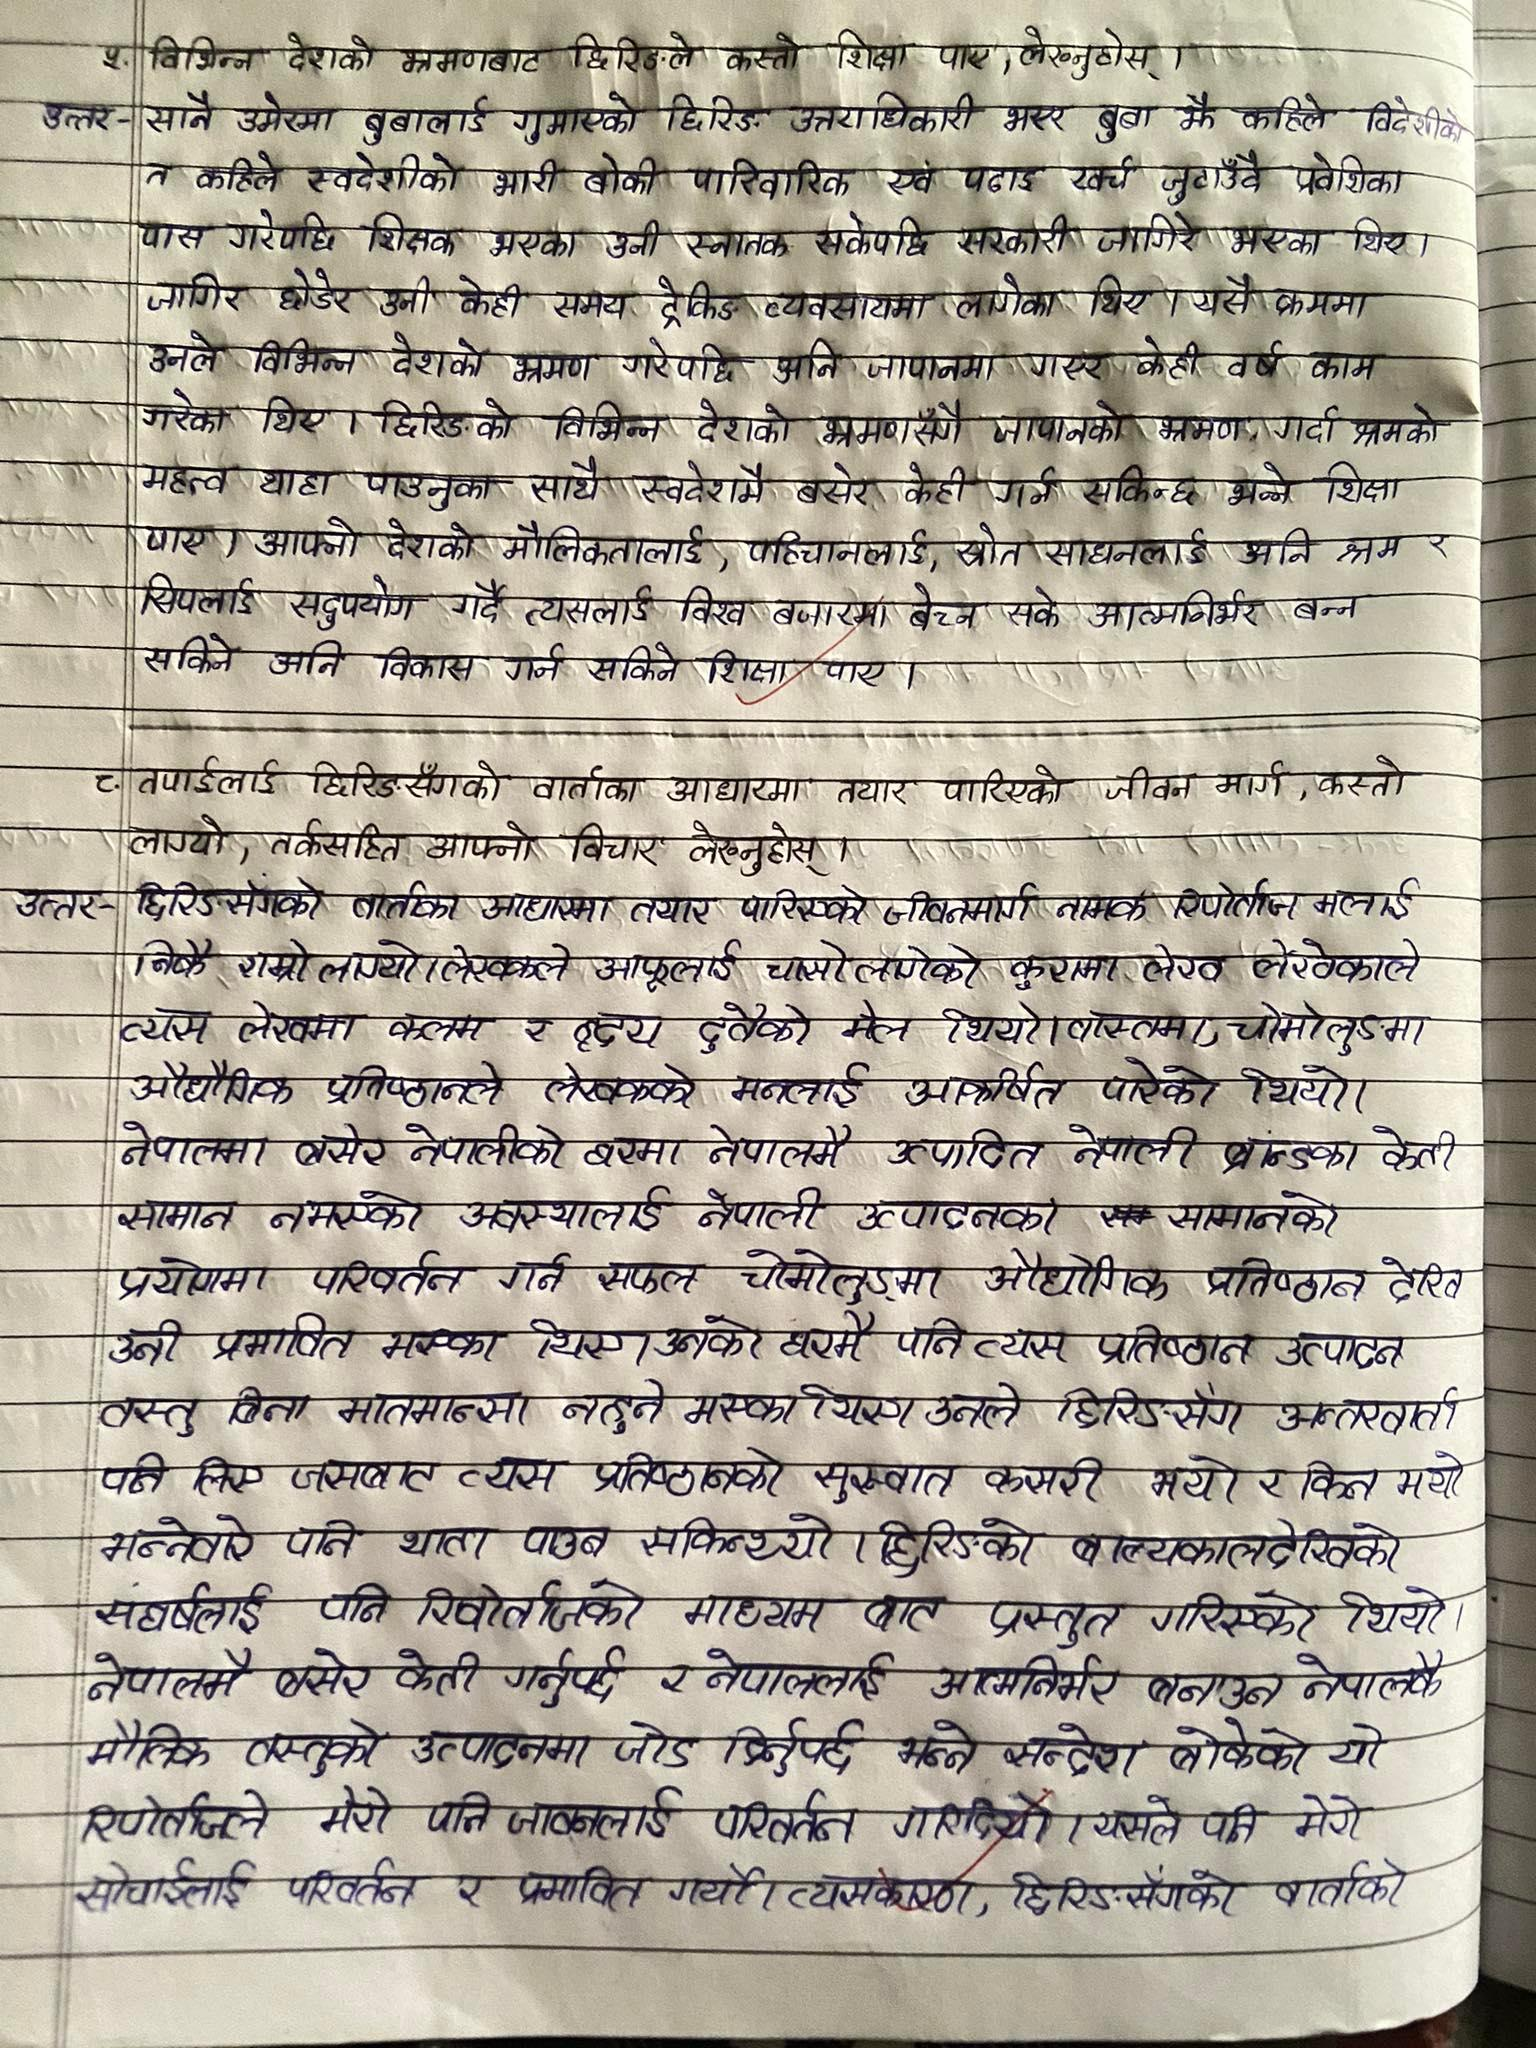text: (1063, 1517, 1418, 1577), (411, 1579, 650, 1637), (724, 1243, 957, 1301), (69, 1851, 271, 1917), (783, 1863, 979, 1929), (503, 1784, 694, 1848), (505, 516, 716, 574), (71, 1784, 274, 1843), (997, 1867, 1246, 1916), (979, 1245, 1173, 1306), (457, 1184, 681, 1235), (870, 1509, 1036, 1579), (311, 745, 510, 803), (702, 1646, 900, 1705), (1049, 1380, 1252, 1437), (1142, 1587, 1321, 1650), (94, 1576, 269, 1638), (1226, 998, 1433, 1051), (895, 1788, 1063, 1853), (637, 1508, 834, 1563), (1267, 1385, 1467, 1438), (929, 1656, 1128, 1709), (744, 522, 945, 574), (1012, 19, 1167, 85), (718, 1716, 870, 1782), (127, 877, 332, 926), (587, 1447, 779, 1498), (119, 1058, 292, 1114), (1000, 1717, 1144, 1785), (750, 276, 931, 329), (1084, 582, 1263, 635), (98, 1513, 261, 1571), (689, 152, 866, 205), (1192, 1255, 1375, 1306), (784, 90, 978, 139), (402, 1121, 571, 1176), (239, 1714, 379, 1780), (1158, 1721, 1305, 1784), (1247, 940, 1438, 989), (1089, 1319, 1257, 1374), (587, 939, 745, 997), (411, 1725, 594, 1775), (534, 1059, 705, 1113), (815, 397, 971, 455), (86, 1648, 261, 1700), (281, 569, 424, 632), (702, 1118, 862, 1174), (332, 1390, 539, 1434), (210, 1308, 360, 1367), (691, 814, 833, 877), (502, 1642, 628, 1713), (307, 145, 465, 202), (319, 1059, 510, 1106), (712, 1788, 865, 1846), (371, 390, 521, 448), (894, 1063, 1068, 1113), (971, 1592, 1117, 1651), (986, 398, 1134, 456), (303, 1250, 478, 1298), (566, 23, 703, 84), (108, 1251, 276, 1301), (511, 1859, 655, 1917), (115, 1118, 271, 1171), (1294, 1655, 1455, 1706), (265, 1187, 429, 1237), (852, 1193, 1055, 1234), (1270, 1861, 1413, 1917), (1163, 1192, 1342, 1237), (136, 748, 287, 801), (1163, 871, 1305, 927), (284, 1856, 426, 1913), (629, 456, 778, 510), (1284, 148, 1428, 203), (520, 581, 665, 634), (1037, 526, 1215, 569), (684, 1585, 829, 1638), (508, 89, 641, 147), (82, 1716, 215, 1774), (810, 1455, 958, 1506), (357, 90, 495, 145), (876, 1127, 1049, 1171), (879, 880, 1034, 929), (395, 35, 549, 84), (261, 813, 405, 864), (615, 332, 744, 389), (1092, 1058, 1225, 1113), (358, 461, 499, 513), (339, 871, 466, 927), (1141, 1664, 1279, 1716), (691, 998, 816, 1055), (807, 210, 939, 263), (284, 1451, 439, 1496), (694, 1185, 833, 1235), (1350, 89, 1467, 148), (941, 761, 1070, 814), (1066, 1124, 1196, 1177), (776, 1305, 873, 1376), (1276, 1326, 1418, 1374), (852, 935, 984, 987), (1313, 871, 1430, 929), (983, 1453, 1108, 1506), (1078, 461, 1207, 513), (452, 1447, 584, 1496), (931, 997, 1050, 1051), (729, 1063, 879, 1106), (954, 214, 1076, 268), (478, 880, 611, 929), (1062, 1003, 1210, 1047), (1239, 1059, 1350, 1118), (949, 274, 1070, 327), (1331, 1587, 1452, 1640), (219, 205, 344, 256), (684, 397, 800, 452), (660, 89, 770, 147), (1217, 1129, 1352, 1176), (229, 998, 360, 1047), (1158, 150, 1270, 206), (108, 1188, 242, 1235), (737, 884, 871, 930), (382, 1645, 487, 1705), (545, 397, 666, 448), (765, 590, 894, 639), (891, 1716, 987, 1780), (1089, 210, 1205, 263), (679, 1380, 805, 1429), (857, 347, 995, 390), (1233, 82, 1336, 140), (566, 1001, 681, 1053), (115, 993, 216, 1051), (381, 1322, 511, 1367), (136, 273, 253, 323), (121, 813, 239, 863), (670, 766, 810, 808), (384, 326, 490, 381), (1275, 276, 1388, 327), (1310, 755, 1423, 806), (131, 384, 239, 437), (319, 934, 428, 987), (437, 942, 574, 984), (561, 1379, 666, 1434), (925, 1379, 1029, 1434), (650, 1311, 762, 1363), (665, 1858, 758, 1919), (1379, 1243, 1470, 1306), (1370, 1121, 1465, 1180), (1146, 1448, 1241, 1508), (1289, 1792, 1384, 1851), (1084, 1795, 1194, 1846), (1000, 947, 1121, 993), (424, 818, 544, 864), (250, 334, 365, 382), (139, 576, 257, 622), (97, 1387, 202, 1438), (294, 1119, 389, 1176), (248, 513, 366, 558), (597, 1255, 715, 1300), (484, 219, 594, 268), (1321, 460, 1418, 514), (316, 1784, 410, 1840), (765, 331, 849, 393), (376, 643, 487, 690), (273, 264, 365, 321), (357, 211, 466, 258), (381, 518, 490, 564), (653, 273, 739, 332), (611, 1716, 697, 1775), (566, 818, 668, 868), (524, 764, 645, 806), (495, 1250, 584, 1306), (1099, 761, 1199, 811), (1131, 327, 1208, 392), (390, 1517, 505, 1561), (908, 577, 987, 640), (129, 929, 216, 985), (789, 460, 881, 513), (274, 1648, 366, 1701), (695, 643, 795, 692), (1350, 398, 1447, 448), (812, 1385, 912, 1434), (857, 1588, 950, 1640), (1297, 1453, 1383, 1509), (1207, 750, 1288, 810), (194, 148, 284, 202), (144, 35, 261, 76), (282, 26, 376, 76), (234, 94, 337, 139), (524, 456, 611, 510), (1347, 214, 1434, 268), (520, 1517, 618, 1564), (833, 21, 916, 76), (1221, 456, 1305, 511), (223, 1374, 307, 1429), (528, 1317, 632, 1361), (484, 148, 565, 205), (381, 1008, 494, 1048), (1234, 521, 1320, 574), (102, 1314, 187, 1367), (131, 456, 239, 498), (716, 29, 807, 79), (821, 768, 921, 813), (1320, 1716, 1399, 1772), (954, 152, 1042, 202), (139, 634, 240, 677), (1052, 885, 1154, 929), (1146, 405, 1246, 448), (1289, 585, 1384, 631), (986, 463, 1071, 513), (582, 1130, 687, 1171), (578, 152, 662, 202), (687, 224, 791, 264), (234, 937, 315, 989), (1137, 942, 1229, 987), (975, 1322, 1070, 1366), (13, 879, 98, 927), (147, 85, 224, 139), (1397, 1447, 1468, 1505), (1184, 273, 1267, 323), (678, 585, 757, 637), (587, 643, 684, 685), (1223, 218, 1320, 260), (1023, 343, 1120, 385), (763, 939, 847, 987), (1086, 94, 1162, 147), (895, 458, 966, 514), (1066, 148, 1137, 205), (307, 1580, 395, 1625), (892, 1313, 963, 1369), (1305, 343, 1391, 390), (282, 1513, 361, 1563), (1268, 397, 1342, 450), (421, 1787, 495, 1840), (252, 460, 339, 505), (507, 347, 600, 389), (837, 998, 921, 1045), (999, 579, 1070, 634), (954, 519, 1025, 574), (190, 1453, 273, 1500), (1333, 522, 1409, 572), (257, 393, 337, 440), (503, 637, 570, 693), (545, 281, 631, 324), (1084, 274, 1155, 326), (447, 276, 528, 321), (995, 97, 1076, 142), (1220, 335, 1292, 385), (148, 327, 223, 376), (97, 1455, 171, 1503), (266, 639, 349, 682), (624, 892, 720, 927), (821, 647, 897, 690), (931, 32, 999, 81), (449, 577, 511, 629), (1204, 1798, 1262, 1853), (40, 97, 124, 134), (144, 513, 211, 556), (883, 153, 937, 206), (136, 214, 207, 255), (374, 273, 431, 323), (607, 219, 666, 263), (1170, 89, 1221, 137), (453, 1866, 494, 1922), (1421, 526, 1462, 572), (645, 1658, 692, 1696), (1255, 1458, 1288, 1506), (520, 1009, 558, 1048), (140, 156, 173, 189), (100, 39, 124, 77), (94, 760, 118, 798)
